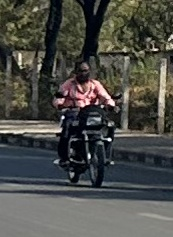BikeWithRider: (48, 57, 126, 190)
NoHelmet: (70, 58, 95, 83)
